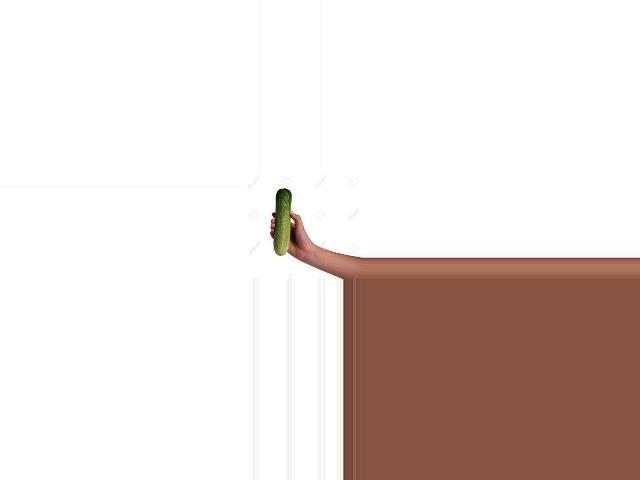cucumber: (274, 188, 293, 256)
